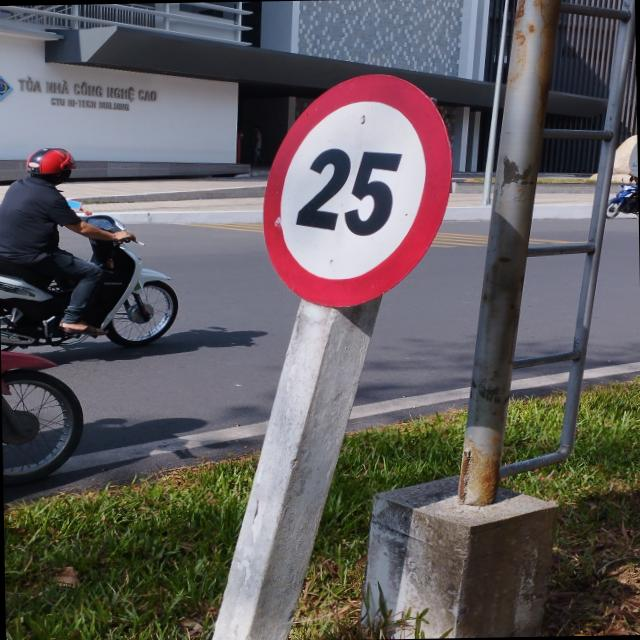Tre_Em: (262, 72, 454, 310)
